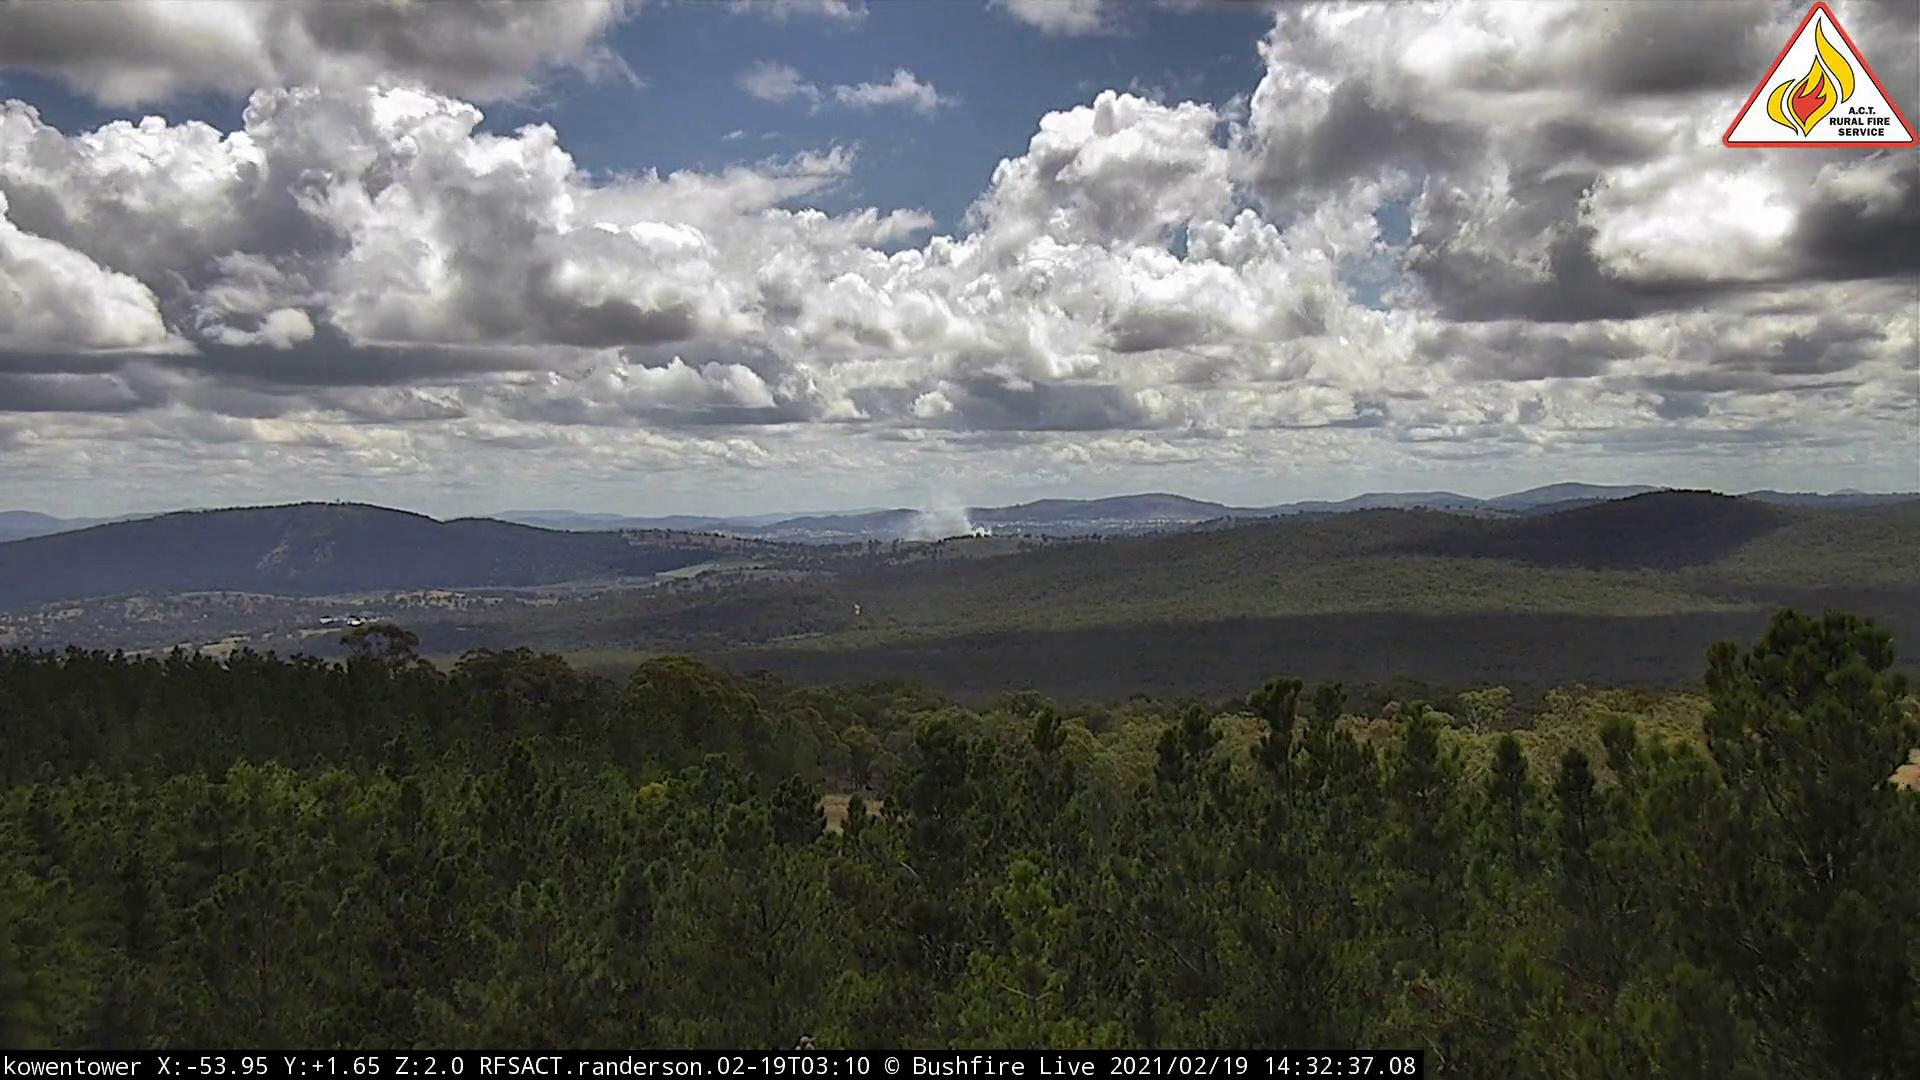instance_salient_object: (891, 483, 994, 554)
